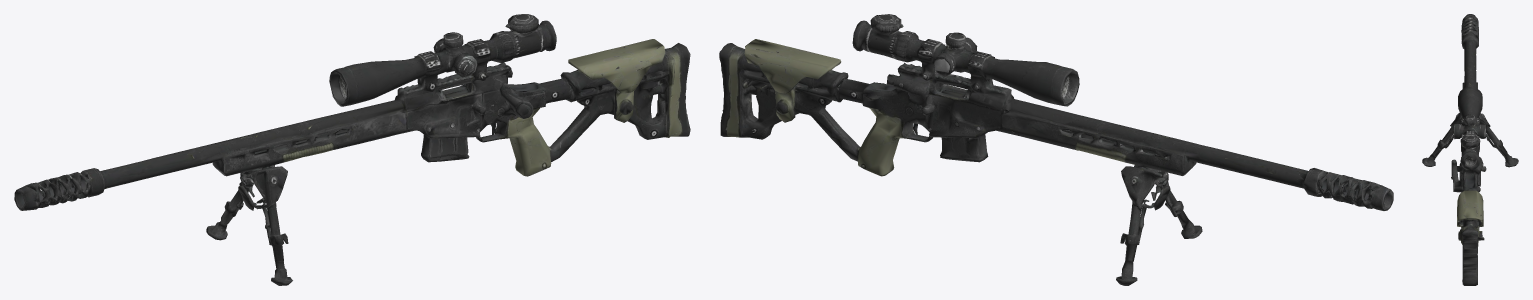
The model's file is gun_amr.glb.
The picture shows the model from 3 angles, left to right: view 1: azimuth 30°, elevation 25°; view 2: azimuth 150°, elevation 25°; view 3: azimuth 270°, elevation 25°; orthographic projection. The views are drawn at different scales.
Size of the model in its own units: 1.9 by 0.485 by 0.3755.
Materials: 1 (1 with a texture image).
